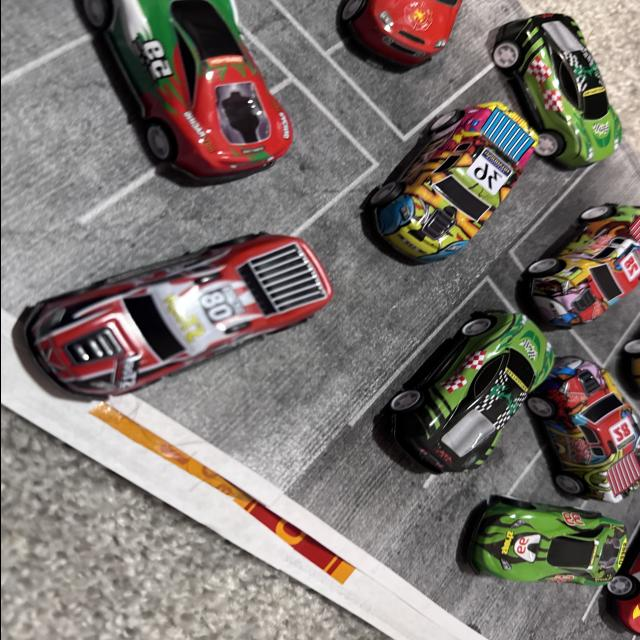Car: (0, 214, 346, 410), (40, 0, 298, 196), (362, 335, 548, 483), (357, 88, 541, 233), (445, 486, 638, 608), (517, 335, 640, 500), (502, 8, 612, 190), (538, 165, 640, 308), (544, 504, 640, 640), (339, 0, 461, 54), (595, 320, 640, 409)
